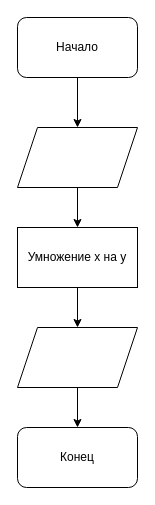
The diagram is 155 pixels wide and 505 high, and some of its shapes have lost their labels. Here are the shapes that lost their labels. From the top down, the centre of each, then its label:
At point 77,157: "Получение чисел х и у".
At point 77,357: "Вывод полученного результата".
